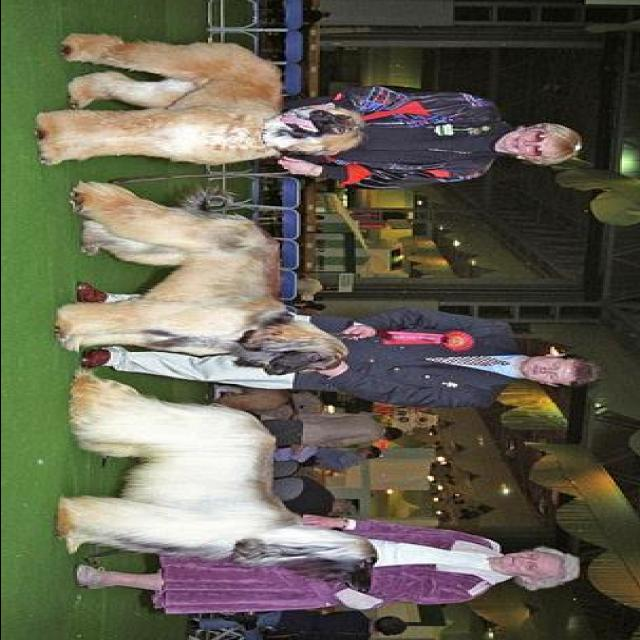afghan_hound: (51, 370, 380, 596), (53, 181, 353, 375), (35, 31, 368, 165)
